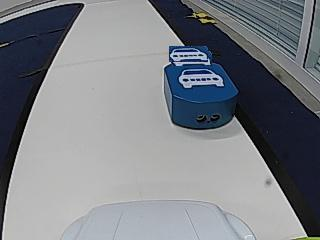safety: (178, 67, 225, 88)
